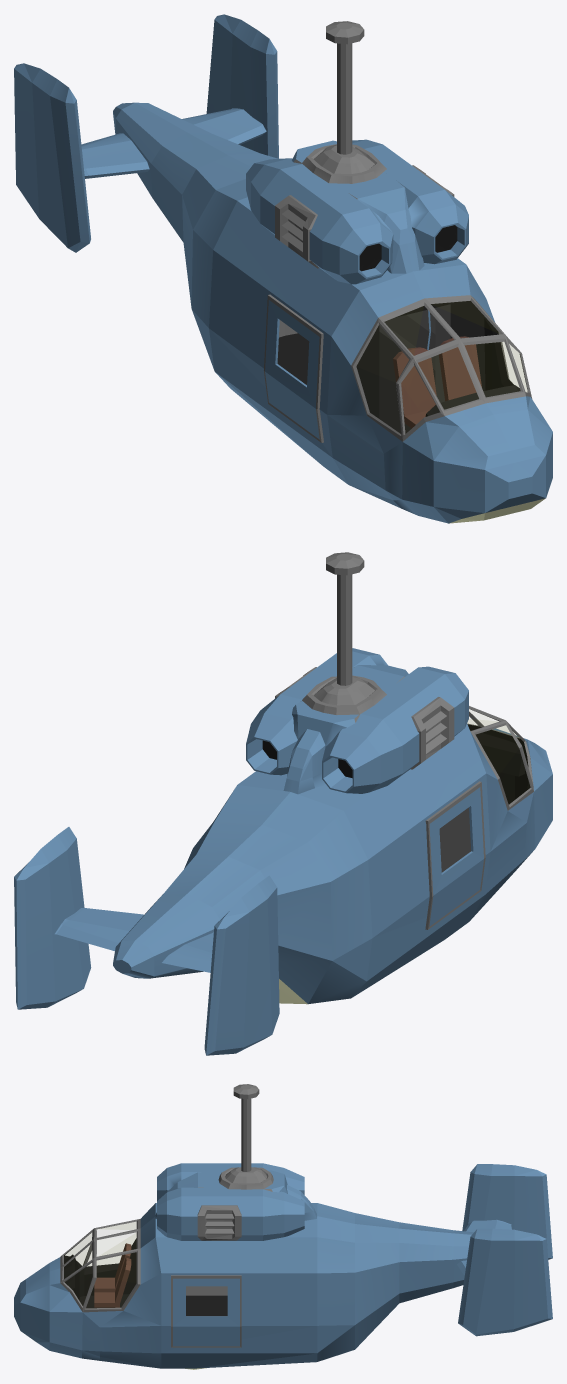
File: aircraft_9_damage.glb
The picture shows the model from 3 angles, top to bottom: view 1: azimuth 30°, elevation 25°; view 2: azimuth 150°, elevation 25°; view 3: azimuth 270°, elevation 25°; orthographic projection. The views are drawn at different scales.
Visible parts, largest first — view 1: Fuselage, TailBreakaway, Door, Seat, RotorShaft; view 2: Fuselage, TailBreakaway, Door, RotorShaft; view 3: Fuselage, TailBreakaway, Door, Seat, RotorShaft.
Part boxes in pixels (x1,y1,x2,y2): Fuselage: (189,139,552,523); TailBreakaway: (14,14,278,285); Door: (264,294,435,442); Seat: (393,336,481,428); RotorShaft: (326,21,364,154); Fuselage: (190,648,552,1004); TailBreakaway: (14,827,313,1055); Door: (425,781,485,929); RotorShaft: (326,552,364,685); Fuselage: (14,1163,368,1369); TailBreakaway: (368,1164,552,1336); Door: (171,1275,241,1347); Seat: (94,1243,131,1307); RotorShaft: (233,1084,259,1171).
Size of the model in its own units: 3.24 by 5.98 by 10.54.
